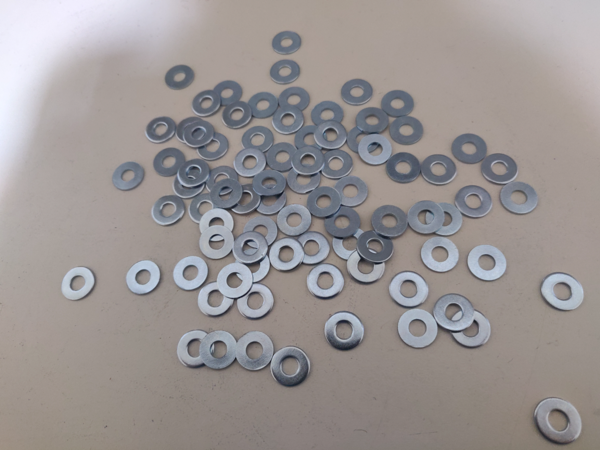circle: (535, 398, 584, 445), (541, 273, 585, 312), (450, 309, 491, 350), (270, 346, 311, 387), (324, 311, 364, 351), (398, 309, 437, 350), (434, 295, 474, 333), (236, 332, 274, 371), (177, 330, 214, 370), (468, 245, 506, 282), (390, 272, 429, 308), (421, 237, 459, 273), (200, 332, 236, 370), (217, 263, 253, 300), (347, 249, 385, 284), (307, 264, 345, 299), (237, 284, 275, 319), (198, 282, 234, 318), (173, 257, 209, 292), (408, 201, 445, 235), (234, 250, 271, 284), (126, 261, 161, 296), (333, 228, 369, 262), (425, 203, 462, 236), (357, 231, 394, 264), (455, 186, 493, 218), (297, 231, 331, 266), (270, 237, 305, 271), (500, 182, 537, 214), (62, 267, 95, 302), (233, 231, 268, 264), (199, 226, 234, 259), (481, 154, 518, 185), (372, 206, 409, 237), (334, 176, 369, 208), (199, 209, 234, 241), (307, 186, 341, 218), (243, 217, 277, 249), (386, 153, 421, 184), (325, 207, 360, 238), (278, 205, 311, 237), (287, 164, 321, 195), (452, 134, 487, 164), (421, 155, 456, 185), (358, 135, 393, 165), (229, 184, 262, 215), (210, 179, 243, 210), (190, 193, 221, 225), (152, 196, 185, 226), (254, 185, 287, 215), (292, 146, 326, 175), (234, 148, 268, 177), (267, 142, 299, 172), (390, 116, 423, 145), (381, 90, 414, 119), (314, 121, 347, 150), (272, 106, 305, 135), (154, 148, 186, 177), (320, 150, 352, 179), (206, 166, 238, 195), (173, 169, 205, 198), (348, 126, 381, 154), (112, 162, 145, 190), (311, 102, 344, 130), (222, 101, 253, 130), (197, 133, 229, 161), (178, 159, 210, 187), (356, 108, 389, 135), (252, 171, 286, 197), (295, 125, 325, 154), (243, 126, 273, 155), (145, 117, 177, 144), (247, 92, 278, 119), (342, 79, 374, 105), (192, 90, 221, 118), (212, 81, 243, 107), (175, 117, 206, 143), (279, 88, 311, 113), (183, 122, 215, 147), (165, 65, 195, 90), (271, 60, 301, 84), (273, 31, 302, 54)
